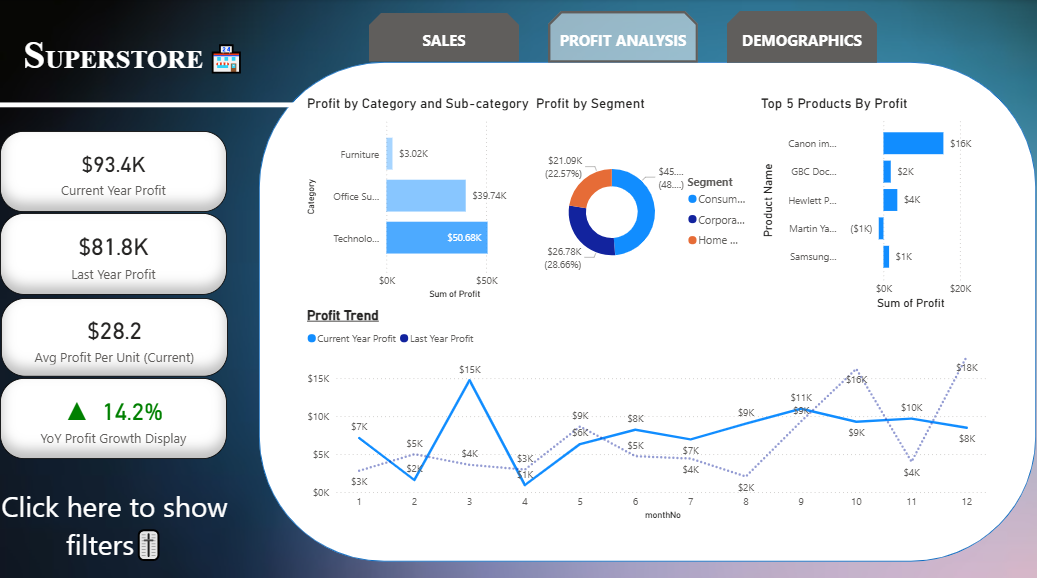

This screenshot's page, from the dashboard's own definition file:
{"tool":"powerbi","page":{"name":"PROFIT ANALYSIS","canvas":[1280,720],"ordinal":1},"visuals":[{"type":"actionButton","box":[455.2,16.9,185.4,59.9],"z":0,"group":"g4"},{"type":"textbox","box":[19.4,36,291,83.2],"z":0},{"type":"clusteredBarChart","title":"Profit by Category and Sub-category","fields":{"Category":["orders.Category","orders.Sub-Category"],"Y":["Sum(orders.Profit)"]},"box":[374,119,290.6,256.6],"z":0,"group":"g1"},{"type":"card","fields":{"Values":["orders.Current Year Profit"]},"box":[0,162.6,279.9,99.8],"z":0,"group":"g2"},{"type":"card","fields":{"Values":["orders.YoY Profit Growth Display"]},"box":[0,468,280,100],"z":0,"group":"g3"},{"type":"actionButton","box":[675.8,14.7,185.3,63.8],"z":1000,"group":"g4"},{"type":"shape","box":[320.1,77.6,959,616.7],"z":1000},{"type":"donutChart","title":"Profit by Segment","fields":{"Category":["orders.Segment"],"Y":["Sum(orders.Profit)"]},"box":[656.8,119.2,278,270.2],"z":1000,"group":"g1"},{"type":"card","fields":{"Values":["orders.Last Year Profit"]},"box":[0,263.3,279.9,101.2],"z":1000,"group":"g2"},{"type":"actionButton","box":[896.7,14.7,185.3,63.8],"z":2000,"group":"g4"},{"type":"group","id":"g1","title":"Group 4","box":[374,119,852.5,529.6],"z":2000},{"type":"barChart","title":"Top 5 Products By Profit","fields":{"Category":["orders.Product Name"],"Y":["Sum(orders.Profit)"]},"box":[934.8,119.2,291.7,270.2],"z":2000,"group":"g1"},{"type":"card","fields":{"Values":["orders.Avg Profit Per Unit (Current)"]},"box":[1.4,368.3,279.9,97],"z":2000,"group":"g2"},{"type":"group","id":"g2","title":"Group 5","box":[0,162.6,281.3,405.4],"z":3000},{"type":"lineChart","title":"Profit Trend","fields":{"Category":["orders.monthNo"],"Y":["orders.Current Year Profit","orders.Last Year Profit"]},"box":[374.2,381,851.6,267.6],"z":3000,"group":"g1"},{"type":"group","id":"g3","title":"Group 3","box":[0,468,280,100],"z":3000,"group":"g2"},{"type":"shape","box":[1.4,593.2,279.9,110.9],"z":4000},{"type":"group","id":"g4","title":"Group 6","box":[455.2,14.7,626.7,63.8],"z":6000},{"type":"shape","box":[0,103.1,365.6,54],"z":7000}]}

Visuals, with their boxes in screenshot pixels (x1, y1, x2, y2), scaled from the page's 1280x720 canvas onto the 1037x578 screenshot:
actionButton: {"left": 369, "top": 14, "right": 519, "bottom": 62}
textbox: {"left": 16, "top": 29, "right": 251, "bottom": 96}
"Profit by Category and Sub-category" clusteredBarChart: {"left": 303, "top": 96, "right": 538, "bottom": 302}
card - orders.Current Year Profit: {"left": 0, "top": 131, "right": 227, "bottom": 211}
card - orders.YoY Profit Growth Display: {"left": 0, "top": 376, "right": 227, "bottom": 456}
actionButton: {"left": 548, "top": 12, "right": 698, "bottom": 63}
shape: {"left": 259, "top": 62, "right": 1036, "bottom": 557}
"Profit by Segment" donutChart: {"left": 532, "top": 96, "right": 757, "bottom": 313}
card - orders.Last Year Profit: {"left": 0, "top": 211, "right": 227, "bottom": 293}
actionButton: {"left": 726, "top": 12, "right": 877, "bottom": 63}
"Group 4" group: {"left": 303, "top": 96, "right": 994, "bottom": 521}
"Top 5 Products By Profit" barChart: {"left": 757, "top": 96, "right": 994, "bottom": 313}
card - orders.Avg Profit Per Unit (Current): {"left": 1, "top": 296, "right": 228, "bottom": 374}
"Group 5" group: {"left": 0, "top": 131, "right": 228, "bottom": 456}
"Profit Trend" lineChart: {"left": 303, "top": 306, "right": 993, "bottom": 521}
"Group 3" group: {"left": 0, "top": 376, "right": 227, "bottom": 456}
shape: {"left": 1, "top": 476, "right": 228, "bottom": 565}
"Group 6" group: {"left": 369, "top": 12, "right": 877, "bottom": 63}
shape: {"left": 0, "top": 83, "right": 296, "bottom": 126}
